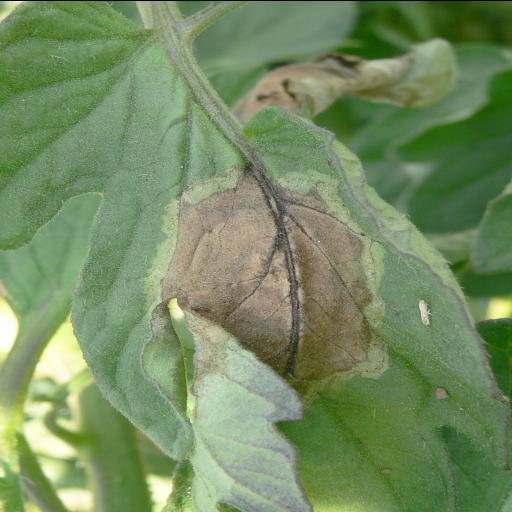Late Blight: (19, 13, 500, 505)
